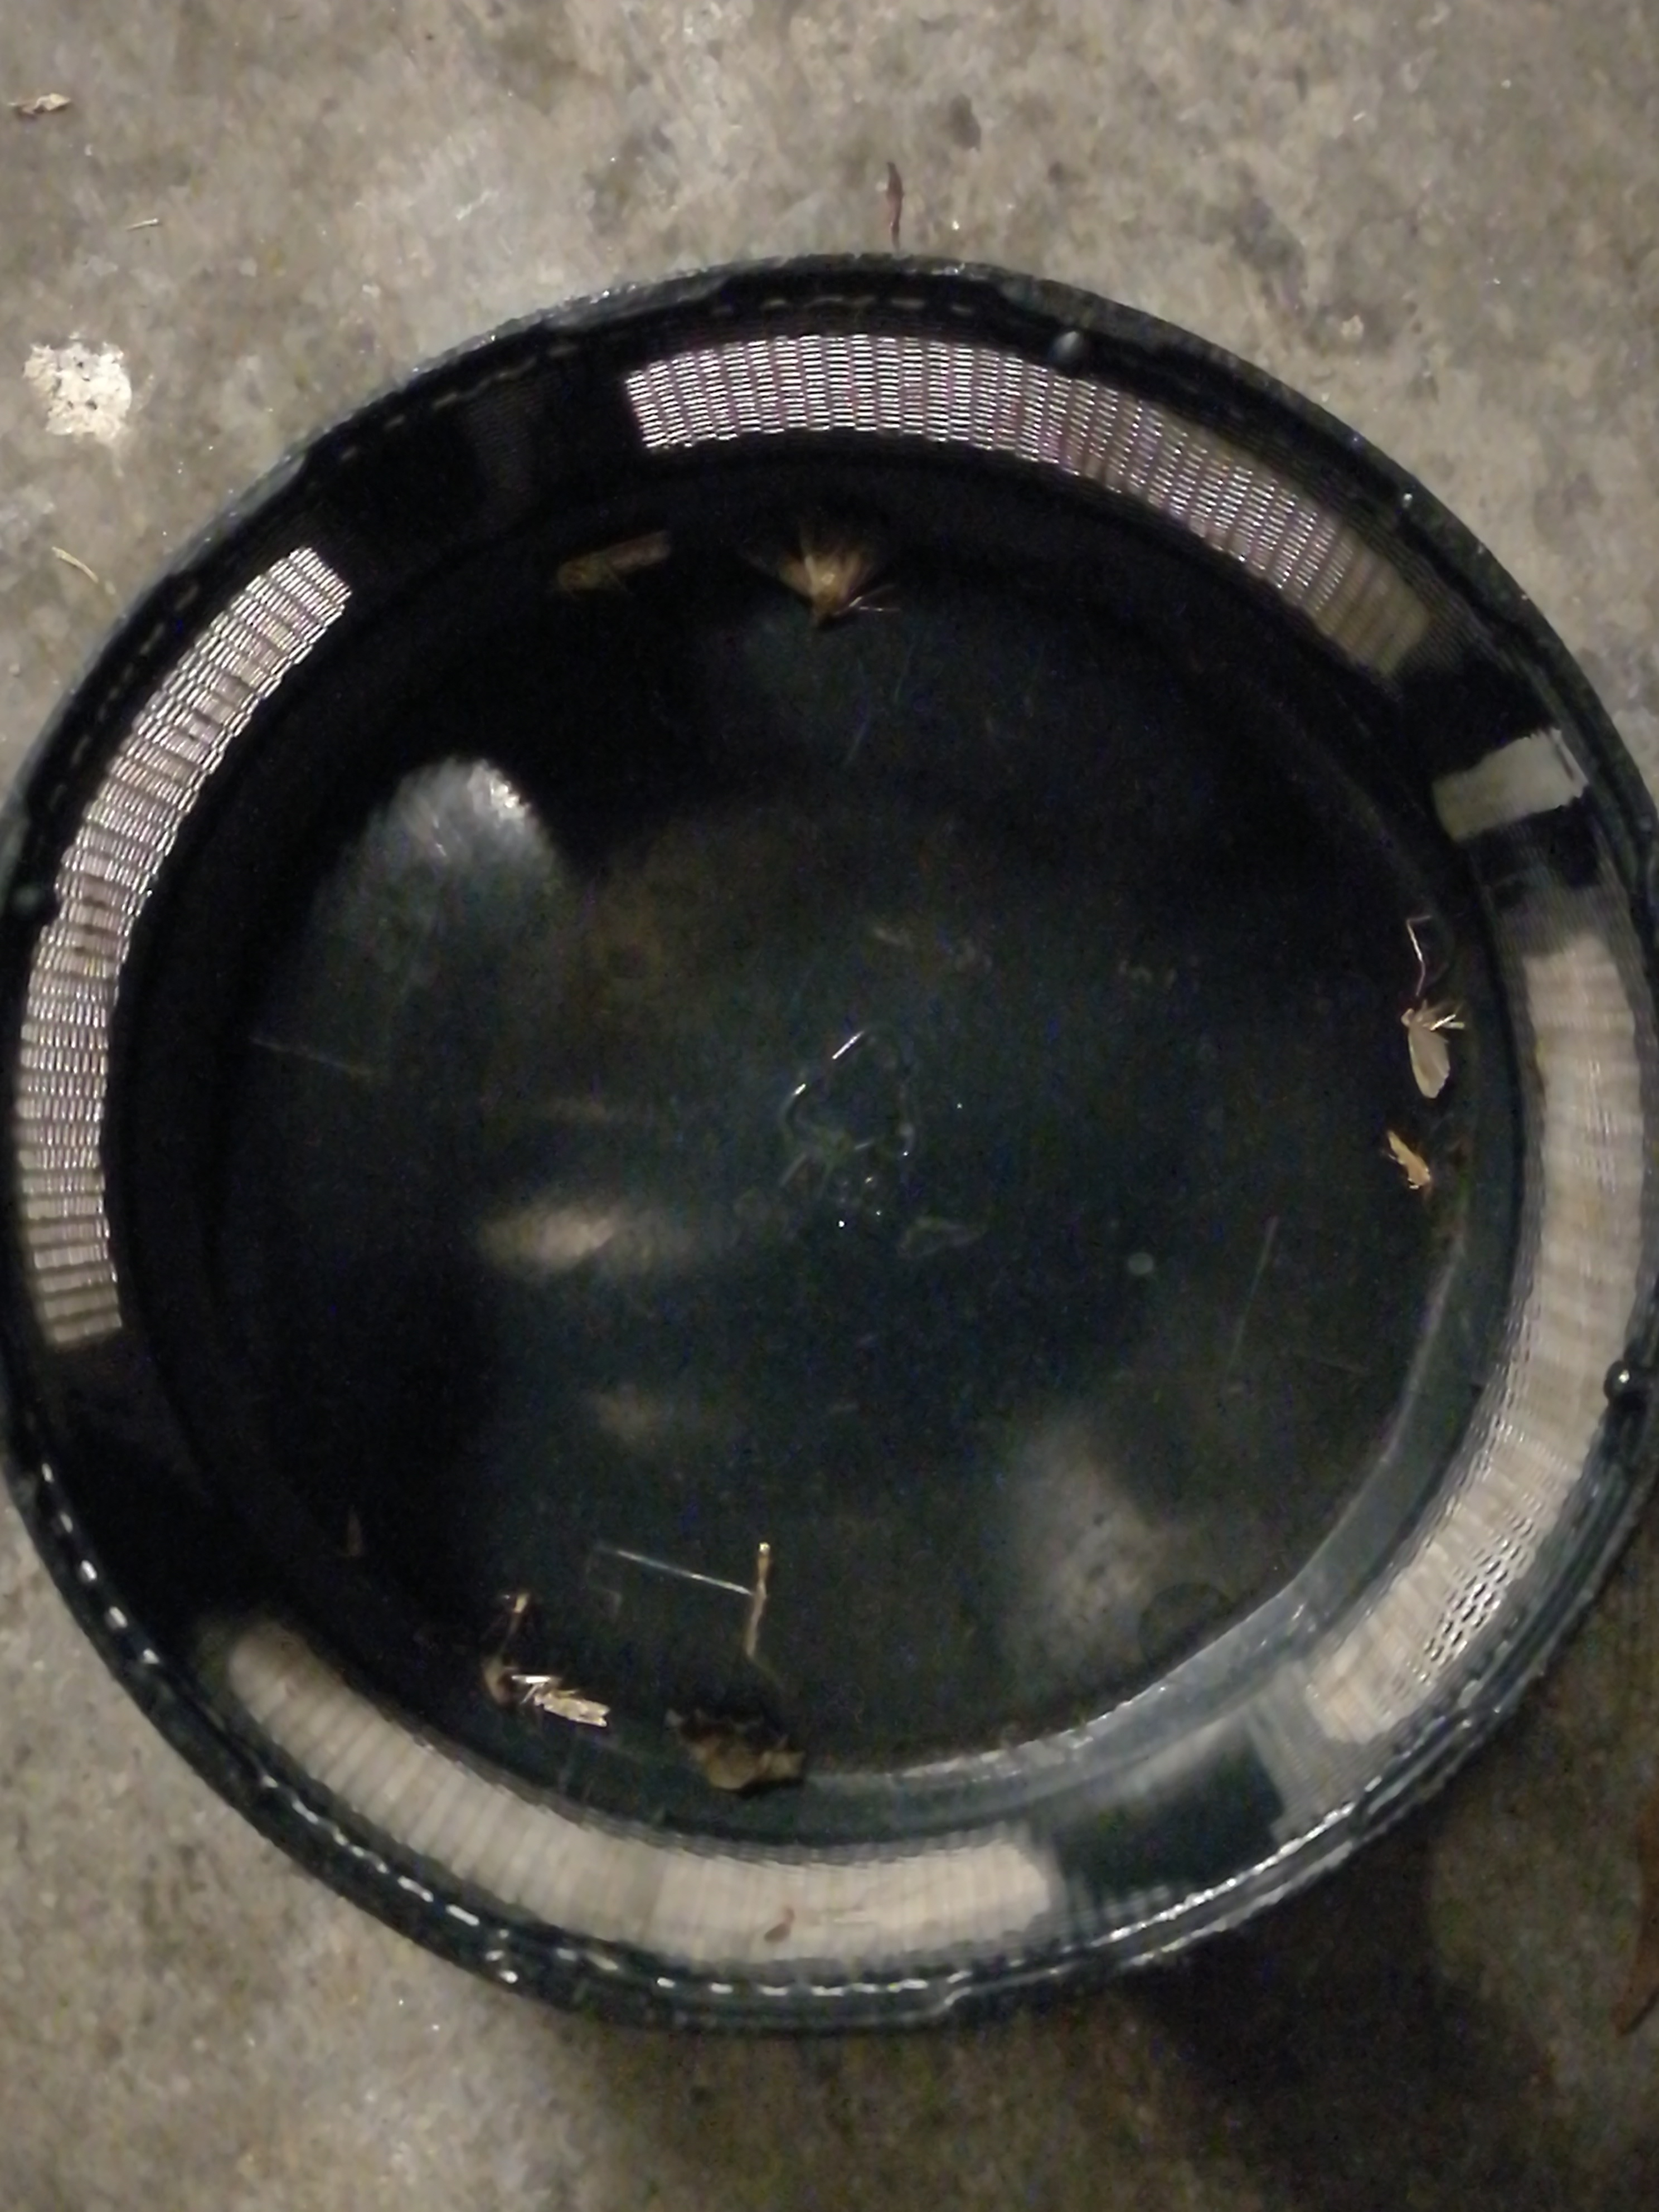mosquito: (552, 528, 674, 590), (530, 1693, 612, 1726), (1389, 1132, 1432, 1184)
moth: (739, 507, 924, 622), (1399, 1005, 1464, 1099)
